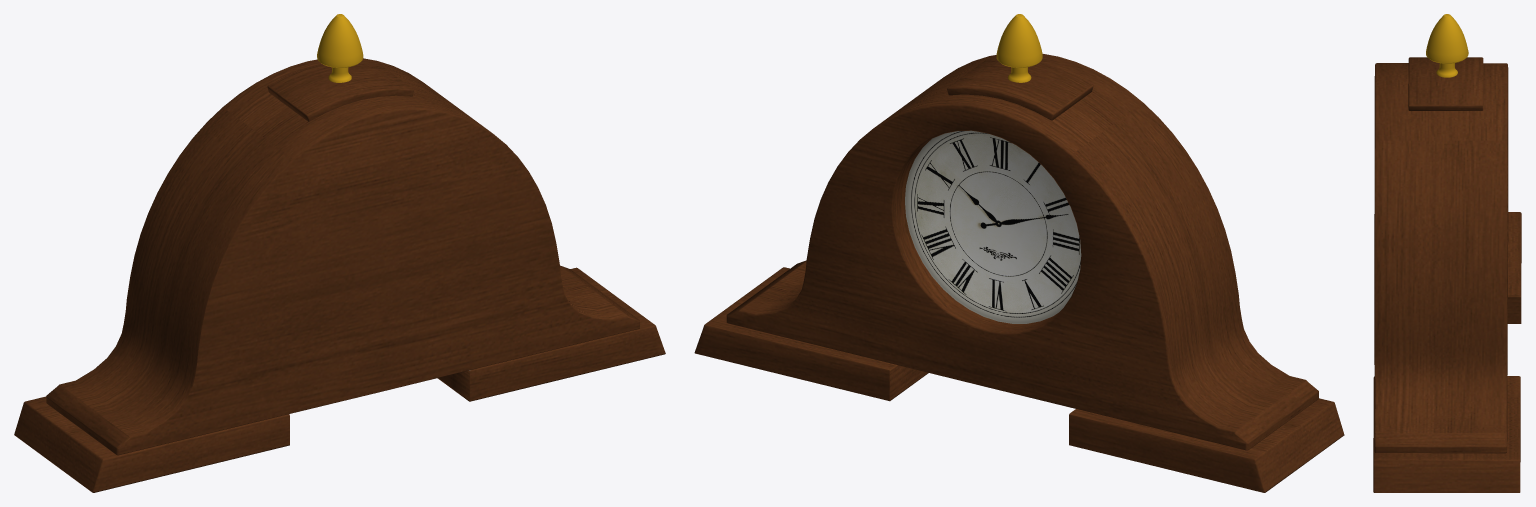
The model's file is frl_apartment_clock.glb.
3 views of the same model, side by side, from view 1: azimuth 30°, elevation 25°; view 2: azimuth 150°, elevation 25°; view 3: azimuth 270°, elevation 25° (orthographic). The views are drawn at different scales.
Visible parts, largest first — view 1: frl_apartment_clock; view 2: frl_apartment_clock; view 3: frl_apartment_clock.
Part boxes in pixels (x1,y1,x2,y2): frl_apartment_clock: [14, 14, 665, 492]; frl_apartment_clock: [694, 14, 1344, 492]; frl_apartment_clock: [1373, 14, 1521, 492].
Bounding box in the file's own units: 0.2606 × 0.1648 × 0.0634.
Materials: 1 (1 with a texture image).
